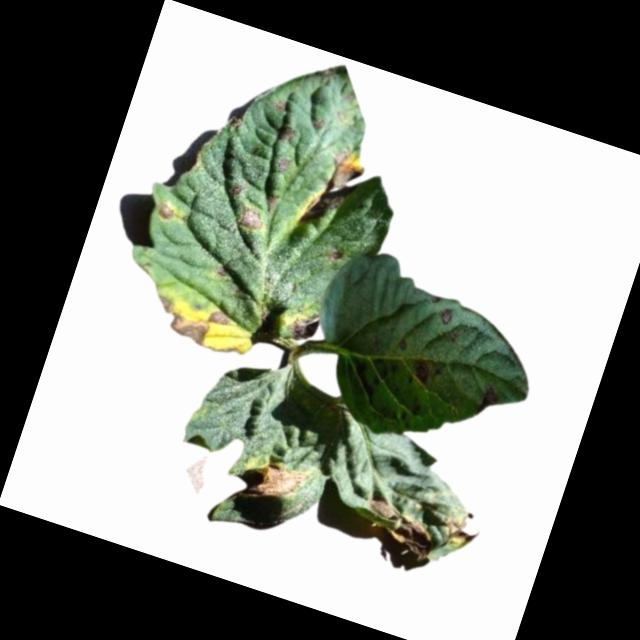Early_blight: (145, 285, 234, 353), (357, 496, 443, 562), (241, 452, 311, 512), (435, 505, 485, 554), (282, 306, 323, 347), (234, 206, 264, 232), (152, 201, 177, 223), (267, 96, 293, 117), (275, 125, 299, 147), (437, 308, 458, 331), (308, 115, 327, 134), (211, 263, 230, 280), (228, 183, 245, 200), (264, 193, 279, 212), (275, 158, 290, 175), (329, 249, 342, 265)
